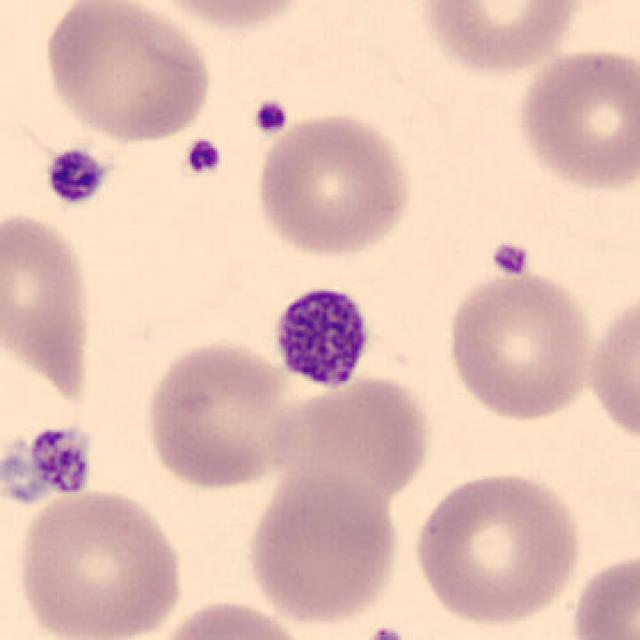Platelets: (267, 282, 375, 395), (7, 423, 100, 506), (41, 145, 110, 208), (180, 134, 226, 182), (486, 238, 534, 279), (247, 95, 290, 139), (366, 624, 409, 640)
RBC: (409, 466, 587, 628), (10, 485, 188, 640), (139, 335, 304, 494), (37, 0, 216, 146), (242, 467, 405, 626), (441, 266, 599, 423), (251, 109, 416, 259), (270, 367, 436, 506), (0, 204, 98, 414), (510, 42, 638, 196), (414, 0, 587, 78), (583, 280, 640, 455), (148, 596, 314, 640), (567, 546, 640, 640), (142, 0, 318, 33)
